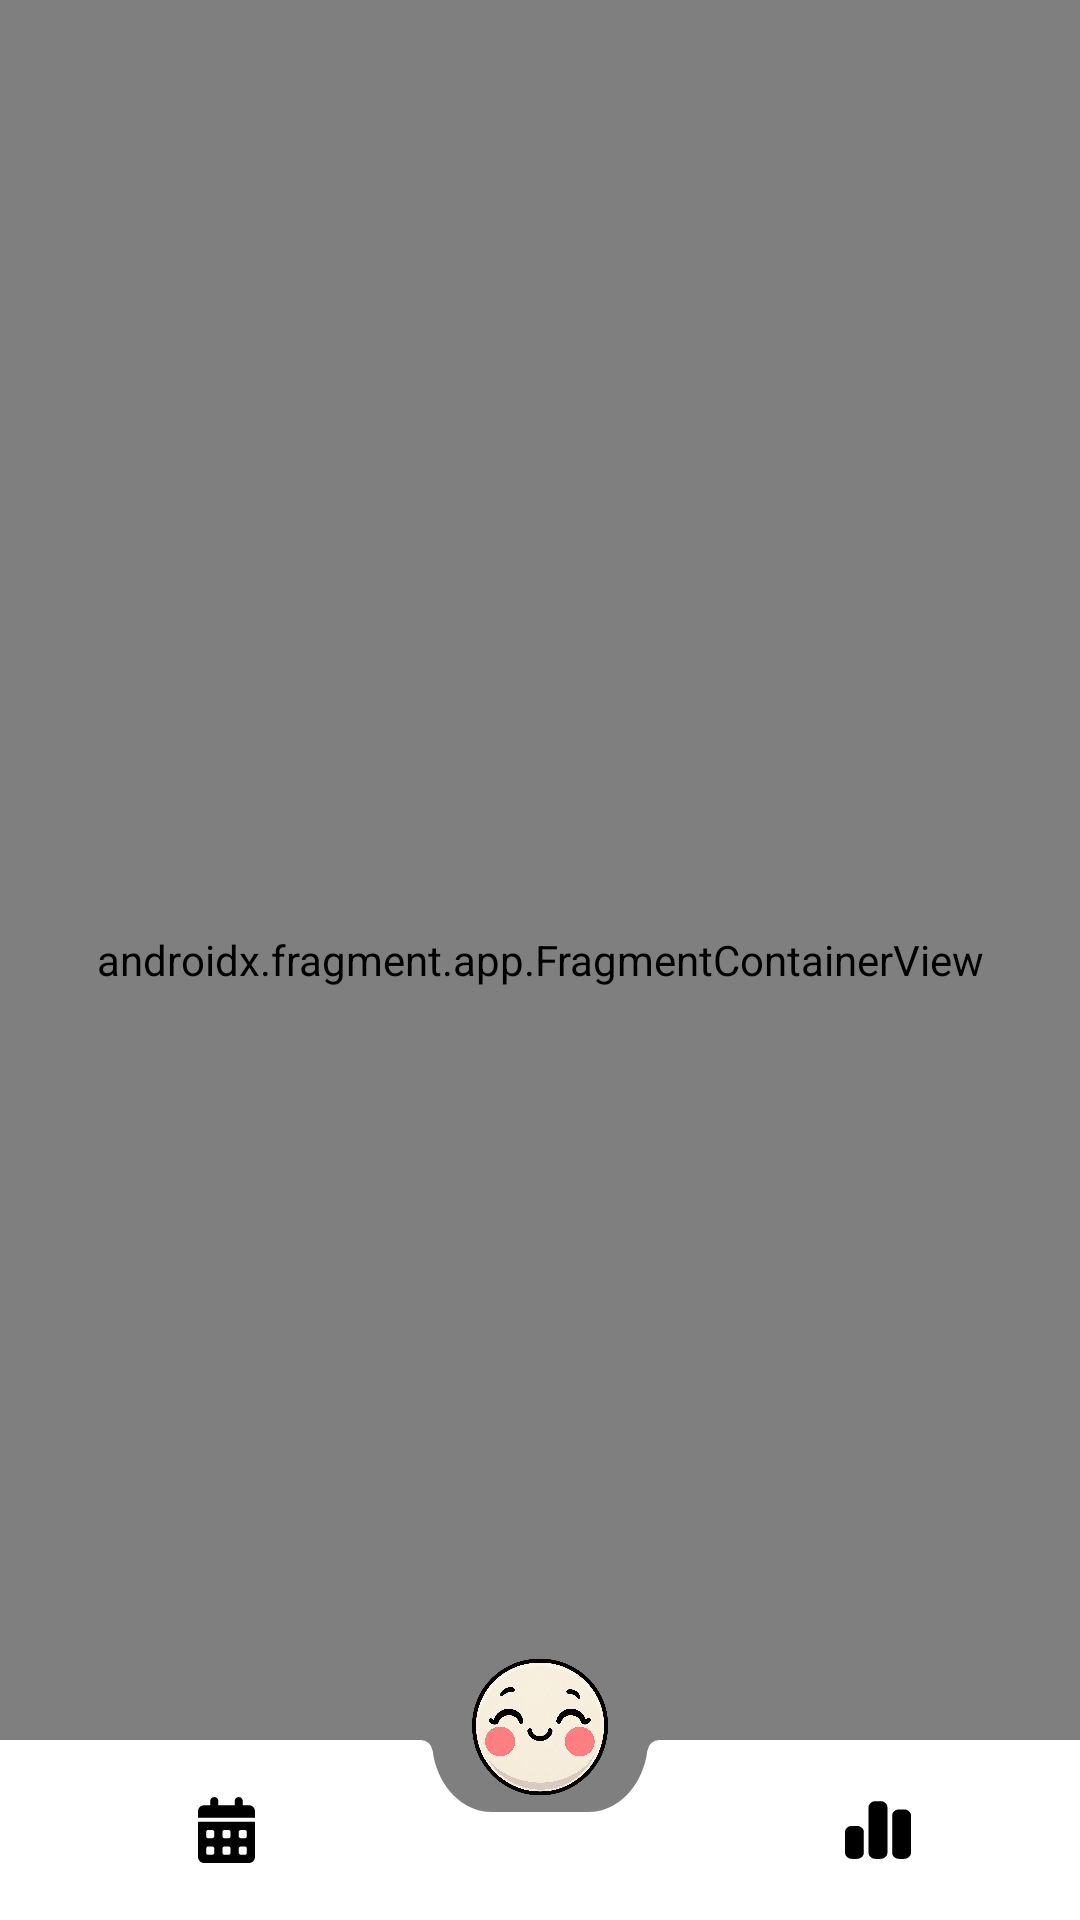

Screen size 1080 × 1920. Icon name, then its center in pixels as (x,y):
Dashboard: (878,1830)
